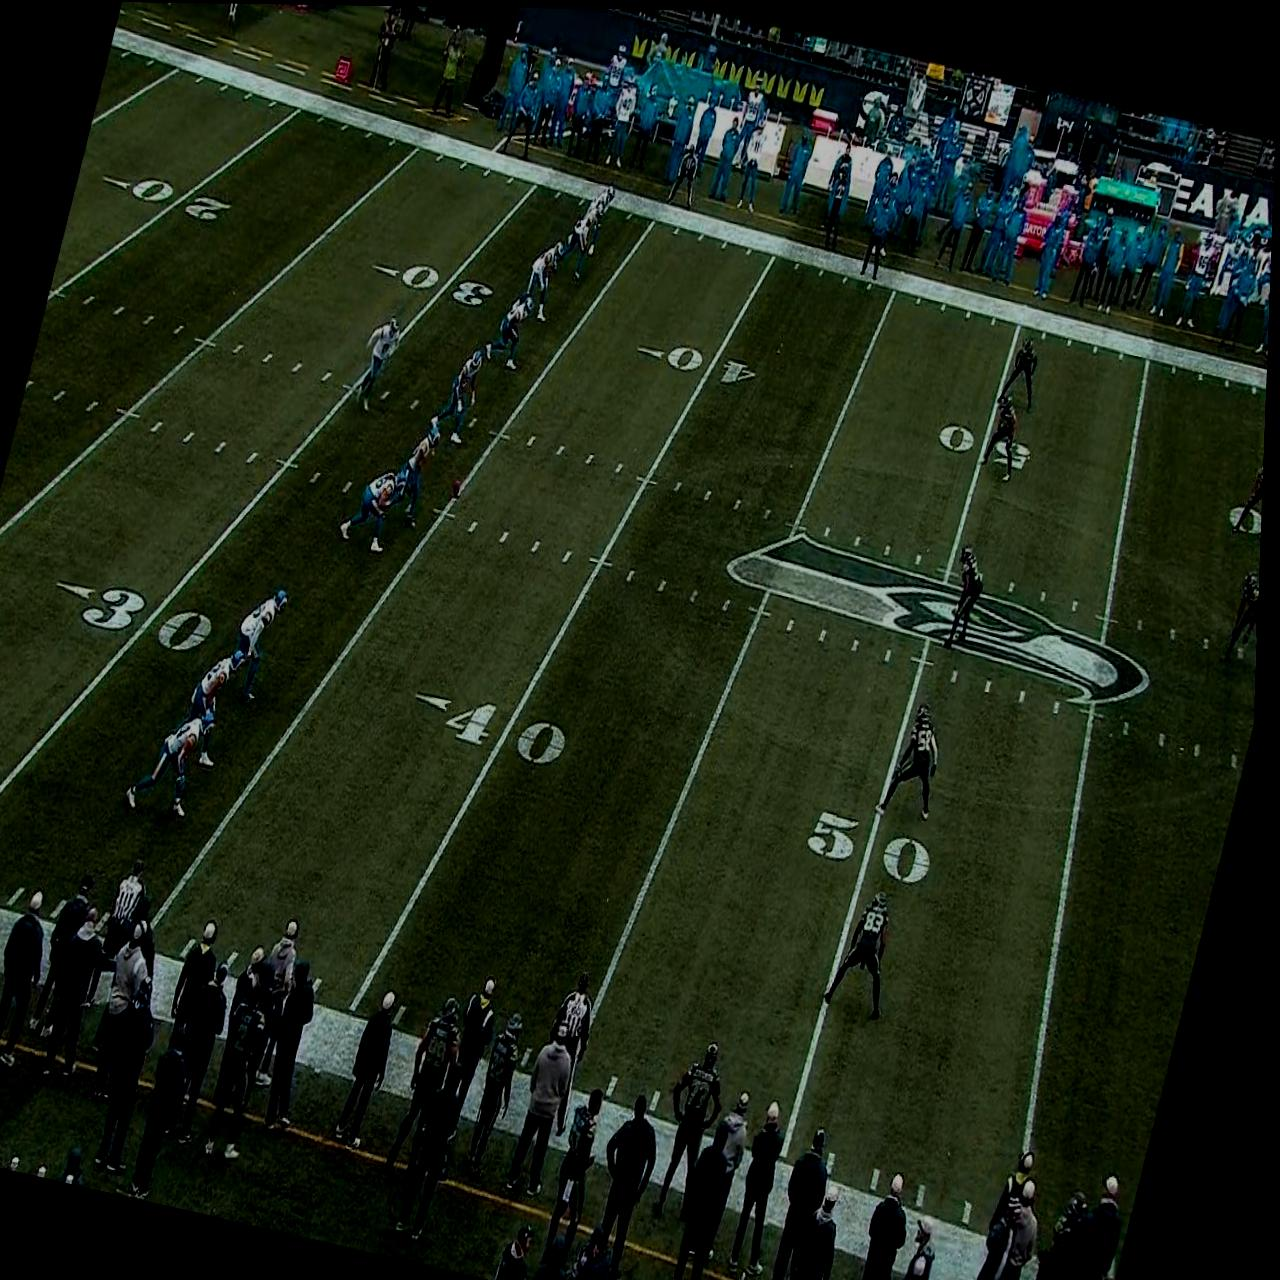20L: (98, 165, 237, 224)
30L: (50, 572, 223, 660), (368, 251, 499, 309)
40L: (410, 681, 579, 770), (635, 334, 762, 387)
40R: (1228, 498, 1266, 543)
50: (808, 805, 945, 886), (938, 418, 1039, 468)
